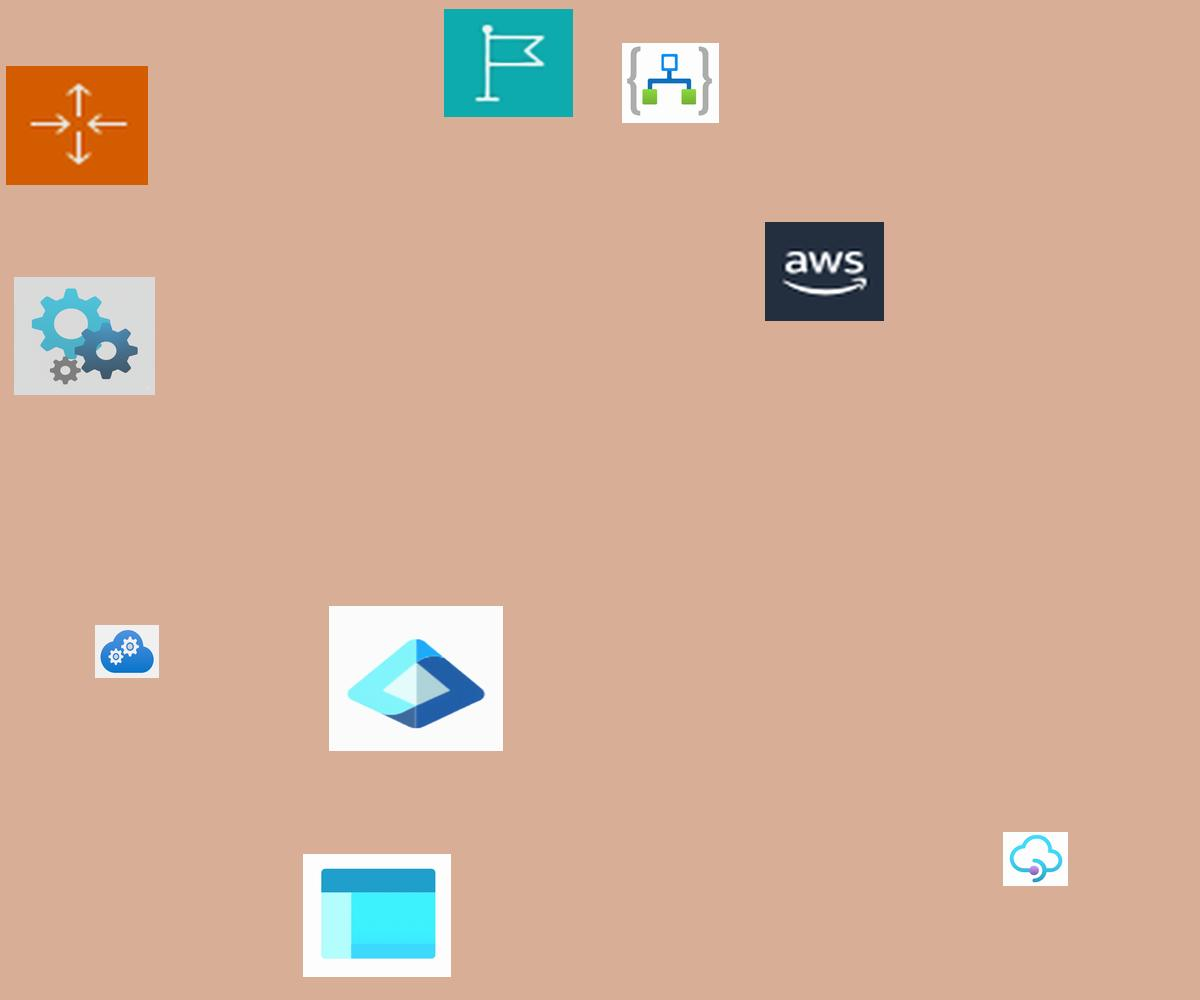AWS-Cloud-logo: (765, 222, 884, 321)
AWS-Region: (444, 9, 573, 117)
AWS-Scaling-group: (6, 66, 148, 185)
Azure_api: (14, 277, 155, 395)
Azure_api_gateway: (1003, 832, 1068, 886)
Azure_cloud_services: (95, 625, 159, 678)
Azure_integration-204-Logic-Apps: (622, 43, 719, 123)
Azure_management-portal: (303, 854, 451, 977)
Azure_microsoft_entra: (329, 606, 503, 751)
